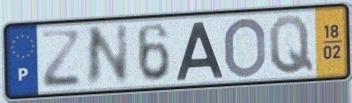6: (135, 21, 172, 84)
A: (174, 20, 226, 82)
N: (84, 21, 131, 91)
O: (222, 15, 268, 80)
Q: (267, 13, 317, 77)
Z: (38, 29, 83, 90)
